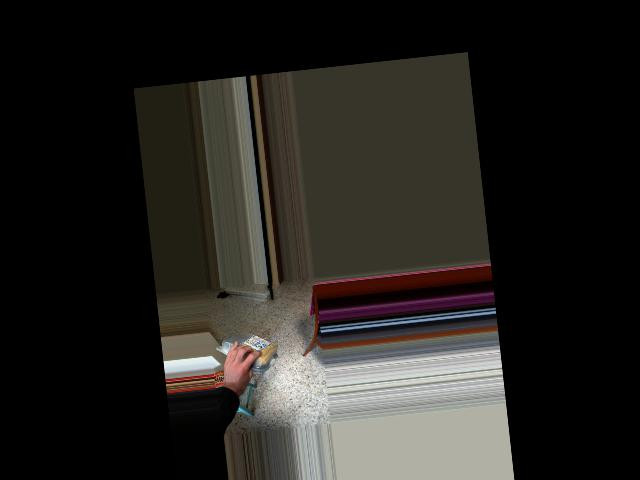cheese: (219, 332, 284, 367)
